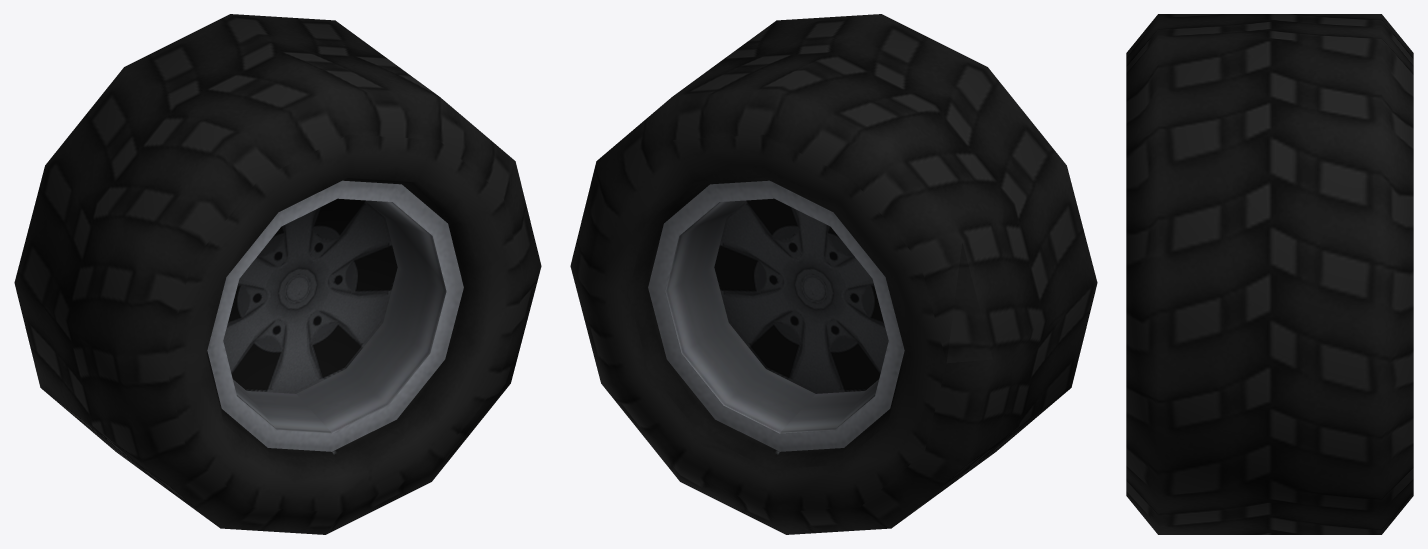
Rendered from left_front_wheel.dae.
The picture shows the model from 3 angles, left to right: view 1: azimuth 30°, elevation 25°; view 2: azimuth 150°, elevation 25°; view 3: azimuth 270°, elevation 25°; orthographic projection. The views are drawn at different scales.
Parts seen in each view (by area): view 1: node; view 2: node; view 3: node.
Part boxes in pixels (x1,y1,x2,y2): node: (14, 14, 541, 534); node: (570, 14, 1097, 534); node: (1126, 14, 1413, 534).
Bounding box in the file's own units: 7.12 × 3.92 × 7.12.
1 material, 1 textured.
